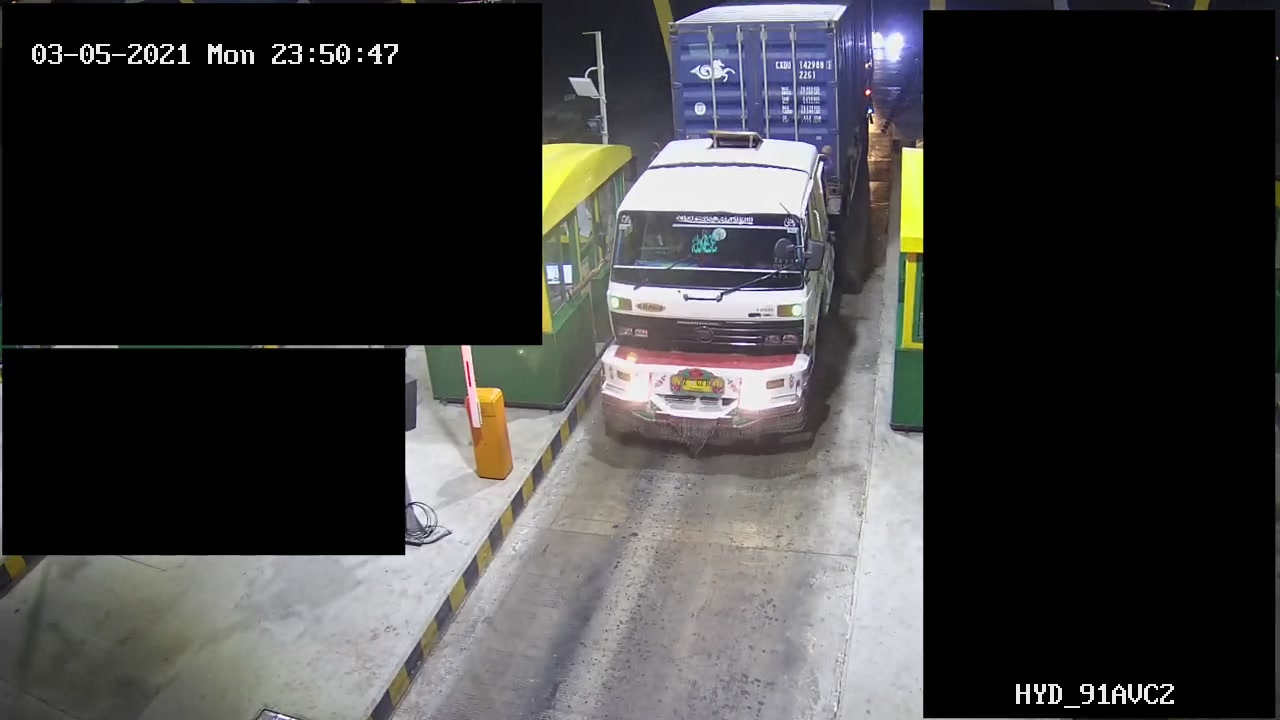F6: (592, 1, 880, 475)
